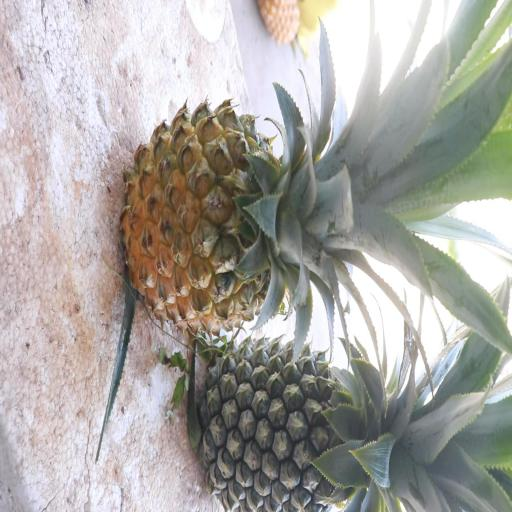Pineapple - v8 v1: (121, 96, 393, 332)
